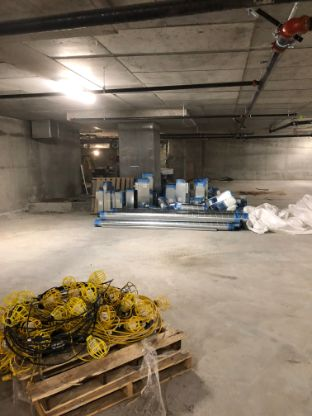Duct: (93, 172, 254, 236), (22, 115, 84, 147)
